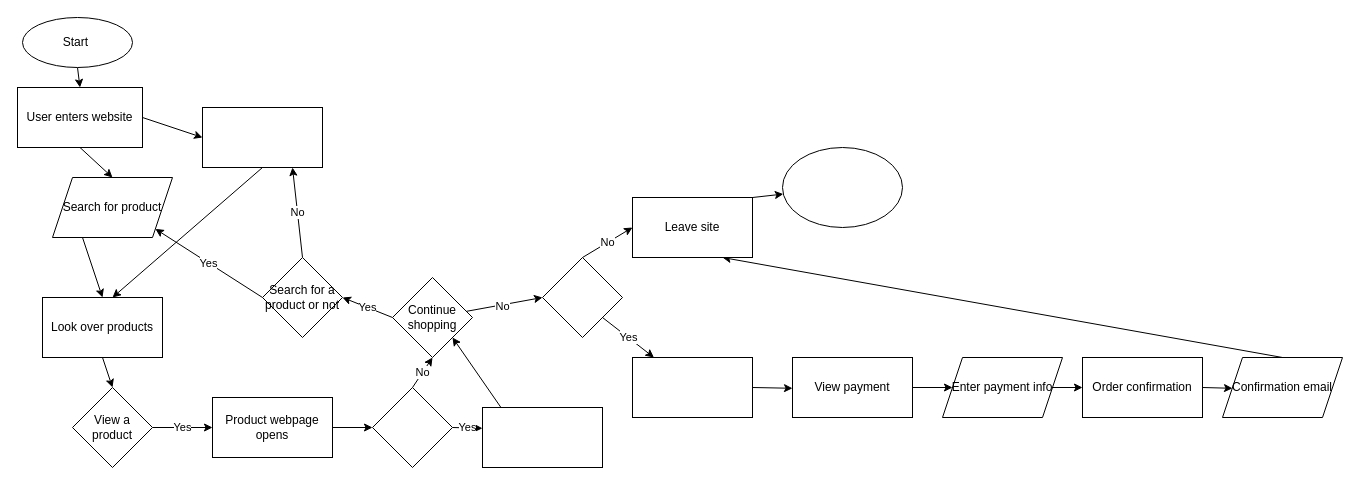
Image size: 1360x493. Some labels were removed from this diagram. The centre of each missing label's shape, as x and y in pixels:
Add to cart: the point at 412,427
Added to cart confirmation: the point at 542,437
Checkout: the point at 582,297
Exit: the point at 842,187
Homepage: the point at 262,137
View cart: the point at 692,387
